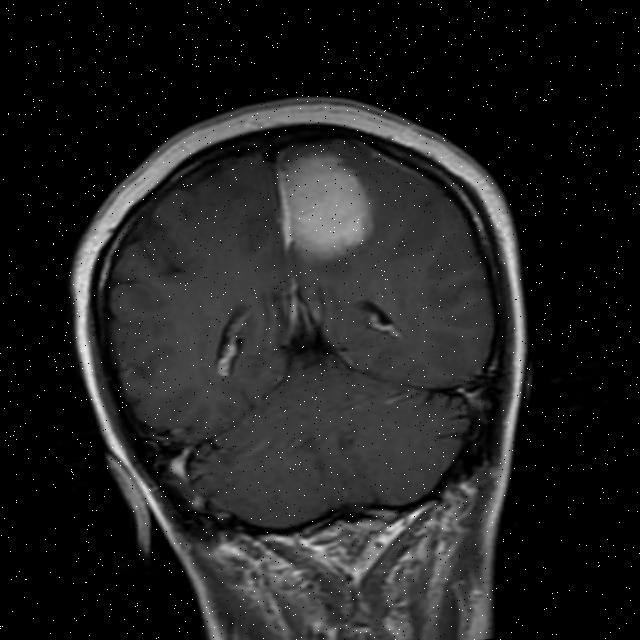Meningioma: (268, 136, 386, 271)
